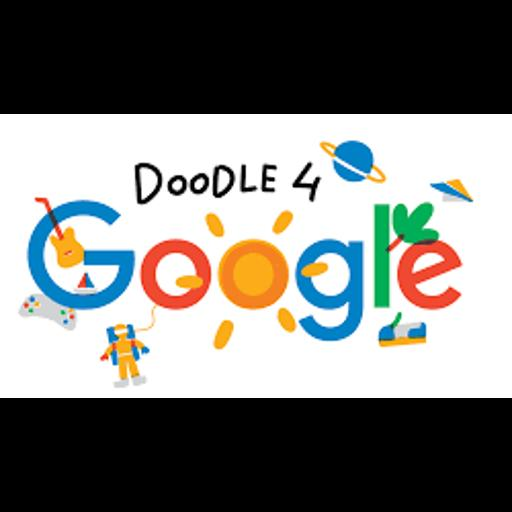Google: (0, 114, 512, 398)
